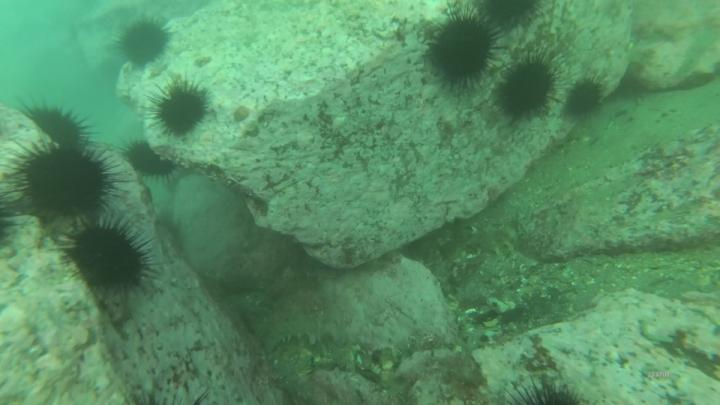echinus: (1, 147, 147, 229), (58, 209, 168, 304), (419, 7, 510, 96), (490, 54, 565, 134), (141, 72, 223, 144), (16, 98, 107, 155), (106, 15, 182, 73), (123, 135, 187, 184), (470, 1, 553, 36), (566, 70, 609, 123)
